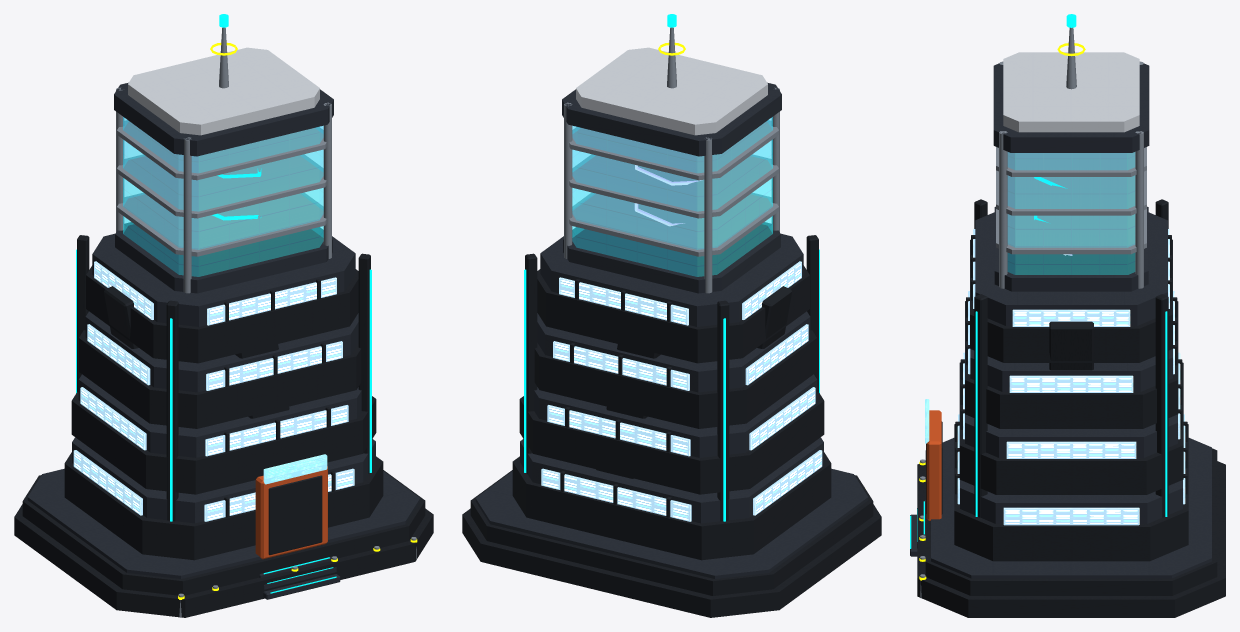
Rendered from bldg_10_r1_01.glb.
3 views of the same model, side by side, from view 1: azimuth 30°, elevation 25°; view 2: azimuth 150°, elevation 25°; view 3: azimuth 270°, elevation 25° (orthographic).
Visible parts, largest first — view 1: Bldg10_C01_gunmetal, Bldg10_C01_carbon_slate, Bldg10_C01_steel_machined, Bldg10_C01_glass_cyan, Bldg10_C01_window_lit, Bldg10_C01_aero_white, Bldg10_C01_led_cyan, Bldg10_C01_accent_orange, Bldg10_C01_marquee; view 2: Bldg10_C01_gunmetal, Bldg10_C01_carbon_slate, Bldg10_C01_steel_machined, Bldg10_C01_glass_cyan, Bldg10_C01_window_lit, Bldg10_C01_aero_white, Bldg10_C01_led_cyan; view 3: Bldg10_C01_gunmetal, Bldg10_C01_carbon_slate, Bldg10_C01_steel_machined, Bldg10_C01_glass_cyan, Bldg10_C01_window_lit, Bldg10_C01_aero_white, Bldg10_C01_led_cyan, Bldg10_C01_accent_orange.
Part boxes in pixels (x1,y1,x2,y2): Bldg10_C01_gunmetal: [14, 235, 433, 617]; Bldg10_C01_carbon_slate: [27, 82, 420, 599]; Bldg10_C01_steel_machined: [116, 27, 416, 617]; Bldg10_C01_glass_cyan: [123, 117, 323, 276]; Bldg10_C01_window_lit: [73, 261, 354, 521]; Bldg10_C01_aero_white: [128, 47, 319, 135]; Bldg10_C01_led_cyan: [76, 14, 371, 593]; Bldg10_C01_accent_orange: [255, 466, 327, 559]; Bldg10_C01_marquee: [263, 454, 327, 484]; Bldg10_C01_gunmetal: [462, 235, 881, 617]; Bldg10_C01_carbon_slate: [475, 82, 868, 578]; Bldg10_C01_steel_machined: [564, 27, 779, 293]; Bldg10_C01_glass_cyan: [572, 117, 772, 276]; Bldg10_C01_window_lit: [541, 261, 822, 521]; Bldg10_C01_aero_white: [576, 47, 767, 135]; Bldg10_C01_led_cyan: [524, 14, 819, 521]; Bldg10_C01_gunmetal: [917, 199, 1225, 617]; Bldg10_C01_carbon_slate: [910, 63, 1211, 578]; Bldg10_C01_steel_machined: [920, 27, 1146, 598]; Bldg10_C01_glass_cyan: [1008, 152, 1134, 274]; Bldg10_C01_window_lit: [957, 229, 1185, 525]; Bldg10_C01_aero_white: [1003, 52, 1139, 132]; Bldg10_C01_led_cyan: [910, 14, 1167, 548]; Bldg10_C01_accent_orange: [926, 410, 941, 520].
Bounding box in the file's own units: 12 × 18.72 × 10.23.
Materials: 11 (11 with a texture image).
